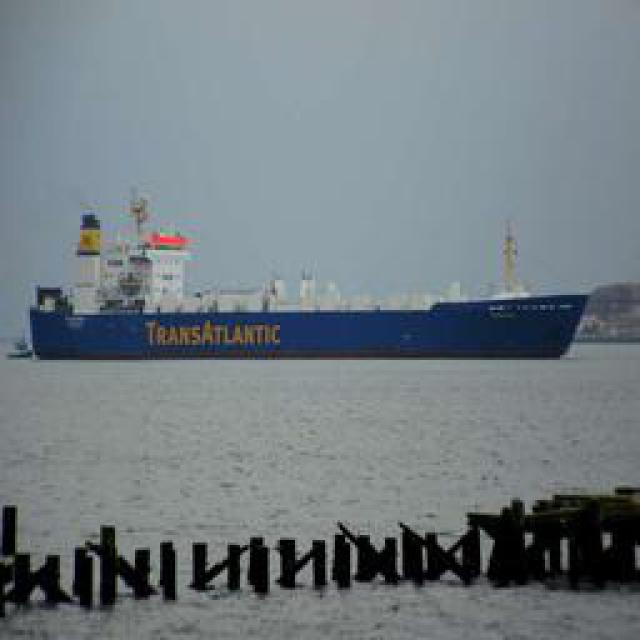Ship: (36, 289, 604, 362)
